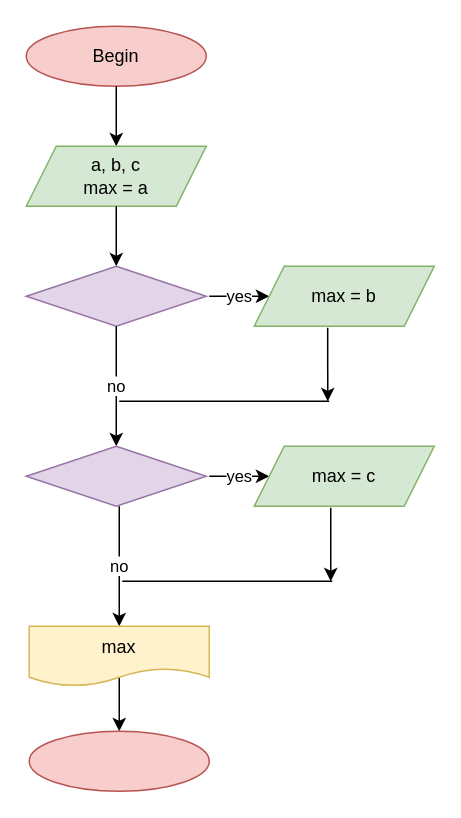
Image size: 461x818. Some labels were removed from this diagram. The centre of each missing label's shape, as x and y in pixels:
b > max ?: [115,295]
c > max ?: [115,475]
End: [118,760]
